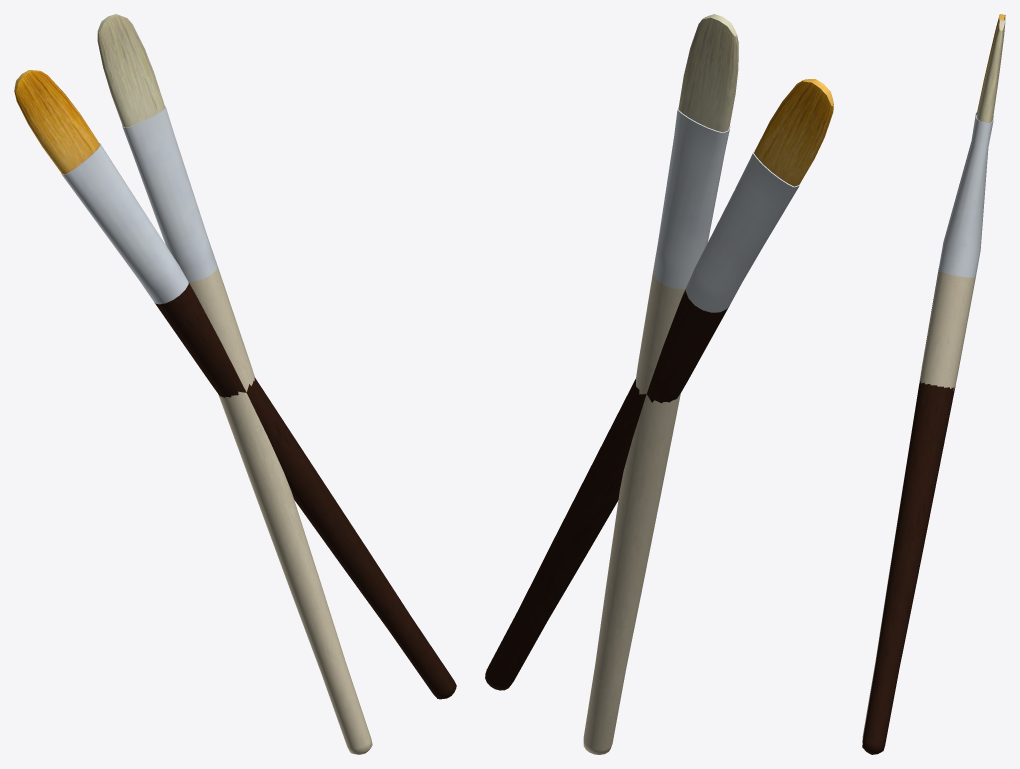
File: paint-brush.glb
3 renders of one model, left to right at view 1: azimuth 30°, elevation 25°; view 2: azimuth 150°, elevation 25°; view 3: azimuth 270°, elevation 25°, orthographic. The views are drawn at different scales.
Visible parts, largest first — view 1: PaintBrush3v2_PaintBrush3v2_0, PaintBrush3_PaintBrush3_0; view 2: PaintBrush3v2_PaintBrush3v2_0, PaintBrush3_PaintBrush3_0; view 3: PaintBrush3_PaintBrush3_0, PaintBrush3v2_PaintBrush3v2_0.
Part boxes in pixels (x1,y1,x2,y2): PaintBrush3v2_PaintBrush3v2_0: (97, 14, 372, 754); PaintBrush3_PaintBrush3_0: (14, 70, 456, 699); PaintBrush3v2_PaintBrush3v2_0: (583, 14, 738, 754); PaintBrush3_PaintBrush3_0: (485, 79, 833, 690); PaintBrush3_PaintBrush3_0: (862, 14, 1005, 754); PaintBrush3v2_PaintBrush3v2_0: (862, 19, 1005, 742).
Bounding box in the file's own units: 3660 × 6908 × 1374.
2 materials, 2 textured.
